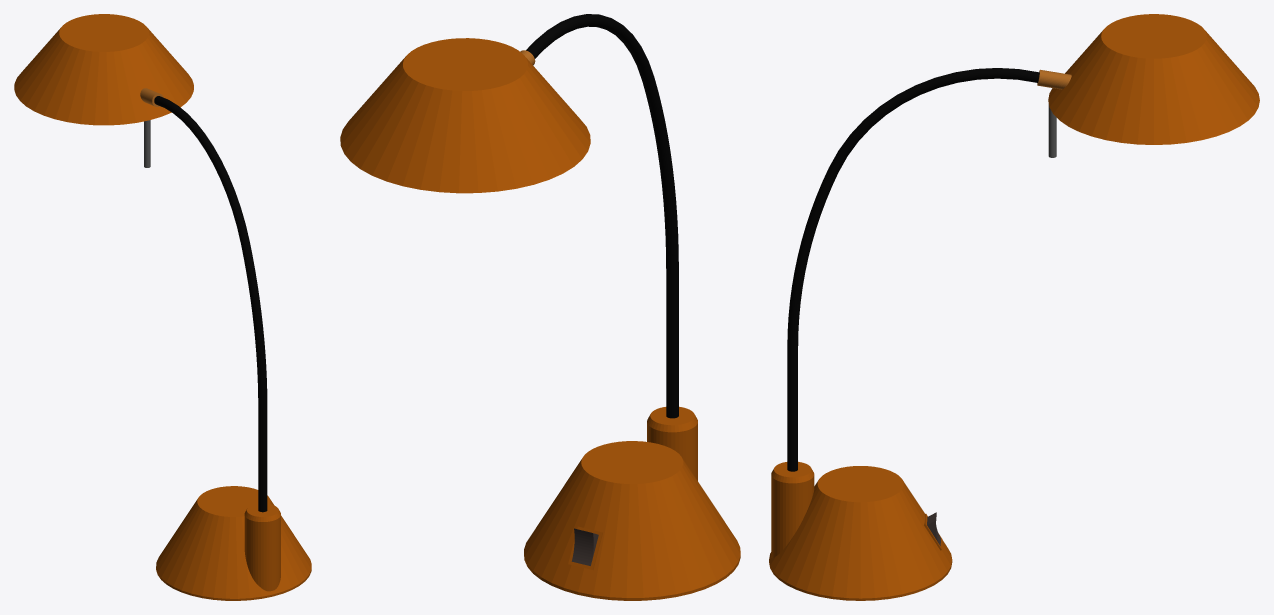
File: original_shape.glb
The picture shows the model from 3 angles, left to right: view 1: azimuth 30°, elevation 25°; view 2: azimuth 150°, elevation 25°; view 3: azimuth 270°, elevation 25°; orthographic projection. The views are drawn at different scales.
Parts seen in each view (by area): view 1: world; view 2: world; view 3: world.
Part boxes in pixels (x1,y1,x2,y2): world: (14, 14, 311, 600); world: (340, 14, 740, 600); world: (769, 14, 1259, 600).
Size of the model in its own units: 0.2692 by 0.7335 by 0.6241.
1 material, 1 textured.
